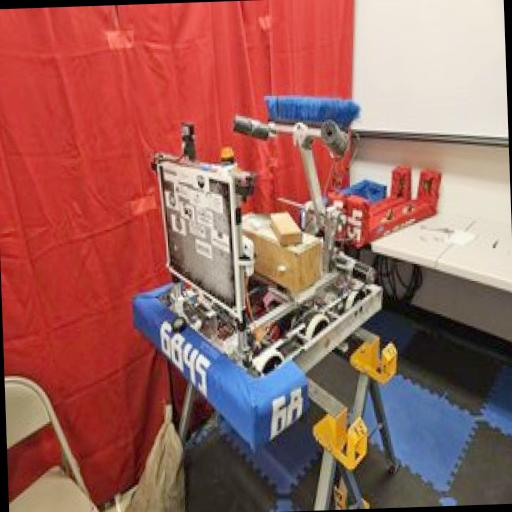robot: (106, 88, 443, 458)
